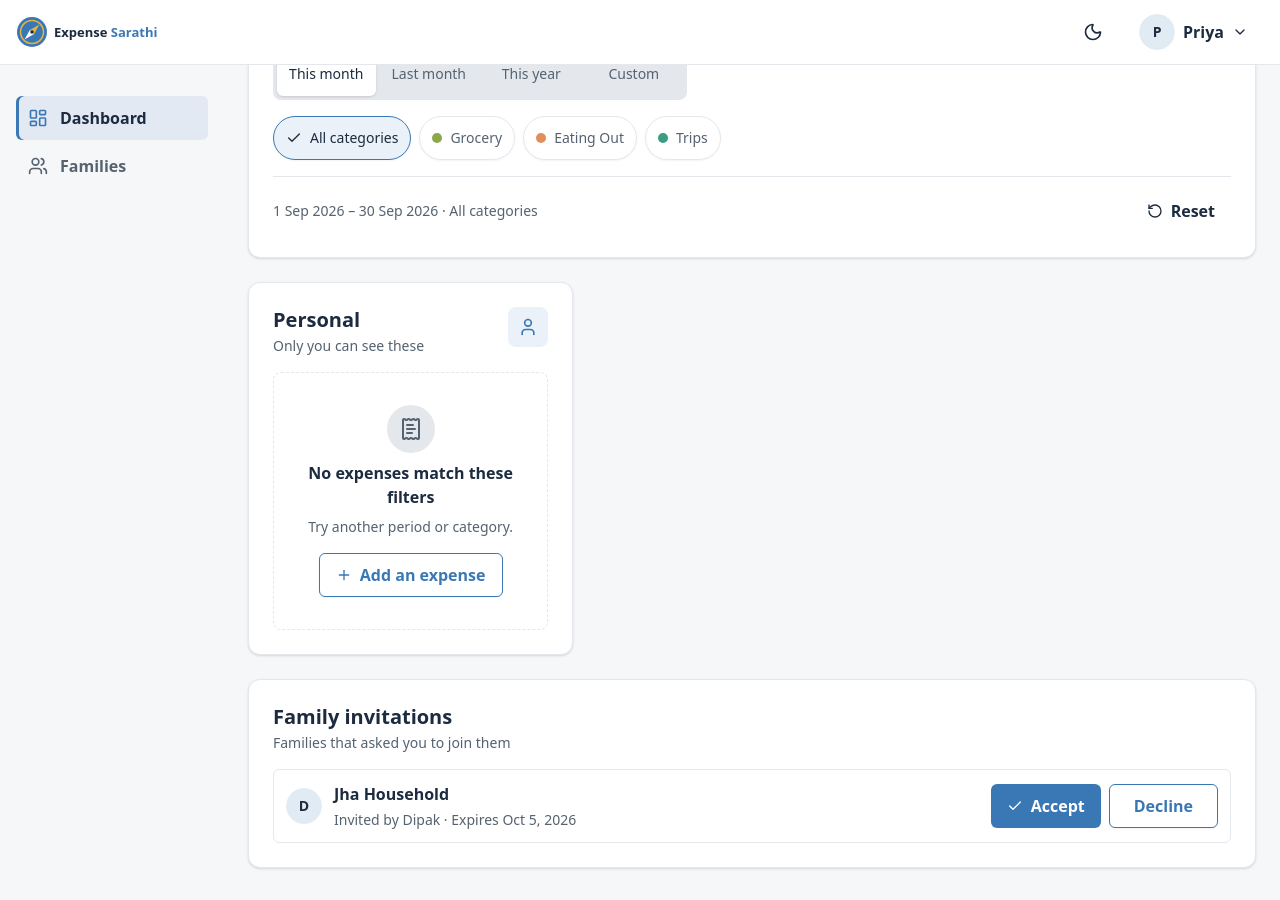
Test: Dashboard invitations › keeps the invitation when the decline is not confirmed
(page scrolled)
Click the button with aria-label "Decline invitation to Jha Household". click: coordinates (1163, 806)
box: x1=1109 y1=784 x2=1218 y2=828
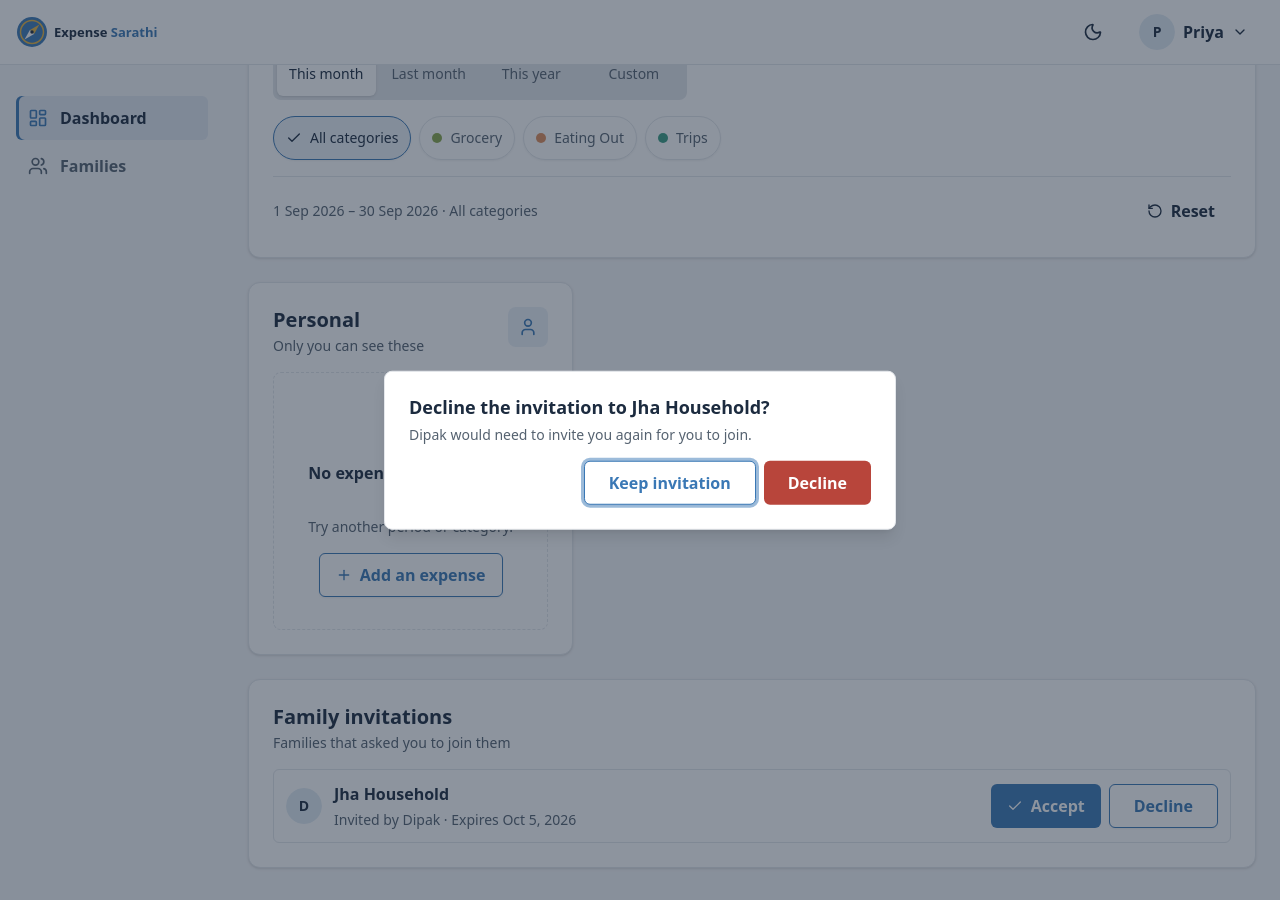
Click the button "Keep invitation". click: coordinates (670, 482)
box: x1=584 y1=460 x2=756 y2=504
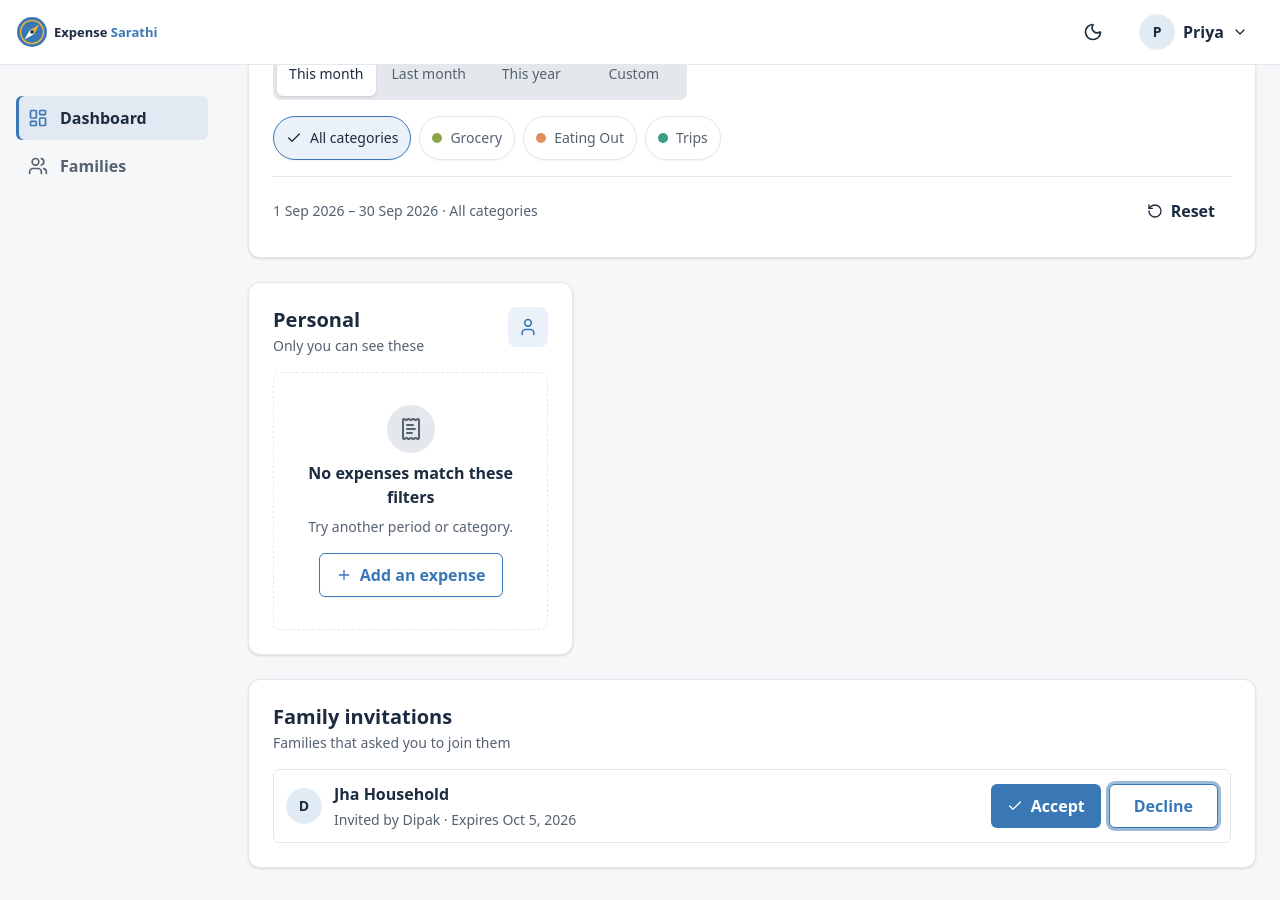
Expected: the text "Jha Household" is shown, x1=334 y1=782 x2=449 y2=804
Result: the dialog is gone
